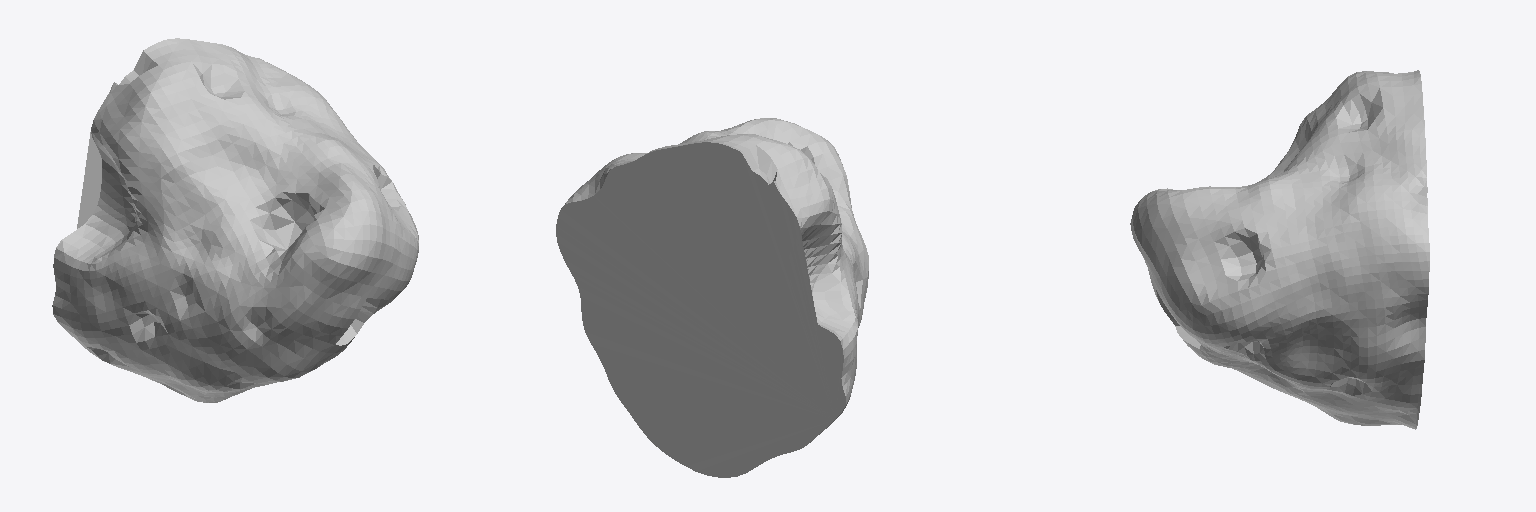
The model's file is AsteroidThird3.obj.
3 views of the same model, side by side, from view 1: azimuth 30°, elevation 25°; view 2: azimuth 150°, elevation 25°; view 3: azimuth 270°, elevation 25° (orthographic).
Visible parts, largest first — view 1: asteroid.001; view 2: asteroid.001; view 3: asteroid.001.
Boxes of the visible parts, box(x1,y1,x2,y2) form: asteroid.001: box(52, 38, 418, 402); asteroid.001: box(556, 118, 868, 477); asteroid.001: box(1130, 70, 1429, 429).
Bounding box in the file's own units: 1.04 × 1.19 × 0.9541.